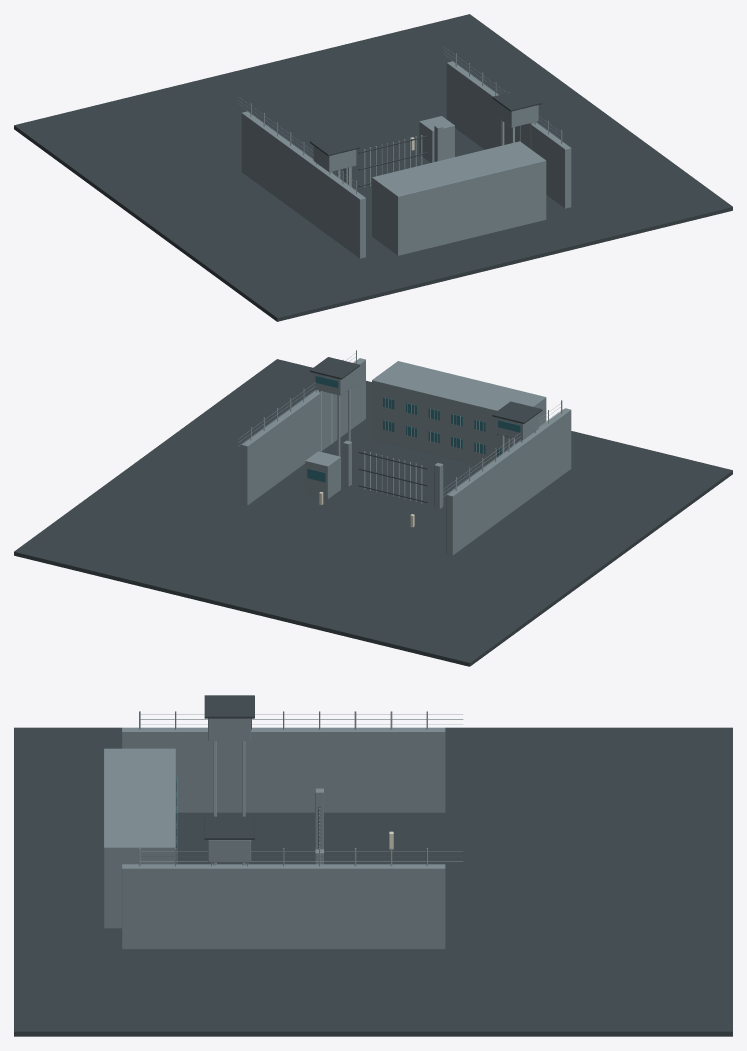
Rendered from exterior.glb.
3 renders of one model, top to bottom at view 1: azimuth 30°, elevation 25°; view 2: azimuth 150°, elevation 25°; view 3: azimuth 270°, elevation 25°, orthographic. The views are drawn at different scales.
Visible parts, largest first — view 1: exterior-forged graphite steel, exterior-blue painted masonry, exterior-galvanized edges; view 2: exterior-forged graphite steel, exterior-blue painted masonry, exterior-galvanized edges, exterior-monitor glass; view 3: exterior-forged graphite steel, exterior-blue painted masonry, exterior-galvanized edges.
Boxes of the visible parts, bbox=[...] form: exterior-forged graphite steel: bbox=[14, 14, 732, 321]; exterior-blue painted masonry: bbox=[241, 61, 571, 258]; exterior-galvanized edges: bbox=[238, 46, 562, 193]; exterior-forged graphite steel: bbox=[14, 357, 732, 666]; exterior-blue painted masonry: bbox=[241, 358, 571, 555]; exterior-galvanized edges: bbox=[238, 350, 562, 503]; exterior-monitor glass: bbox=[307, 375, 520, 482]; exterior-forged graphite steel: bbox=[14, 695, 732, 1036]; exterior-blue painted masonry: bbox=[104, 718, 445, 949]; exterior-galvanized edges: bbox=[139, 711, 463, 866].
Bounding box in the file's own units: 40 × 7.28 × 40.
